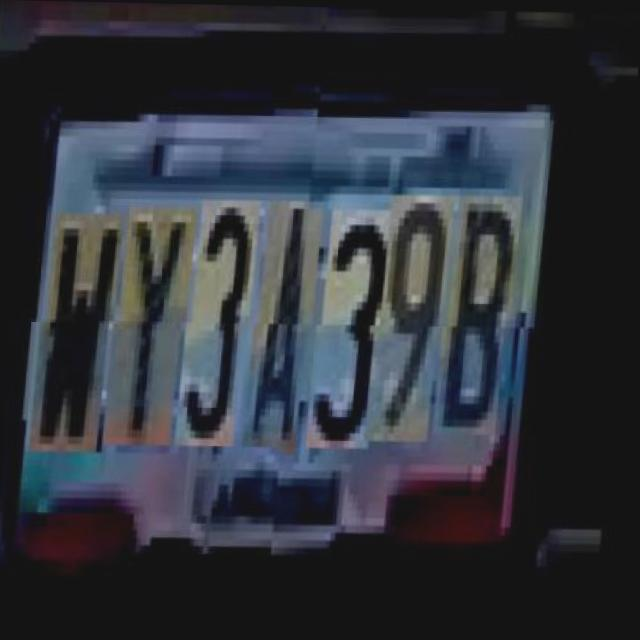3: (187, 206, 265, 455), (319, 208, 399, 448)
9: (377, 193, 460, 441)
a: (255, 207, 328, 455)
b: (446, 194, 526, 434)
w: (41, 220, 128, 460)
y: (115, 213, 200, 454)
